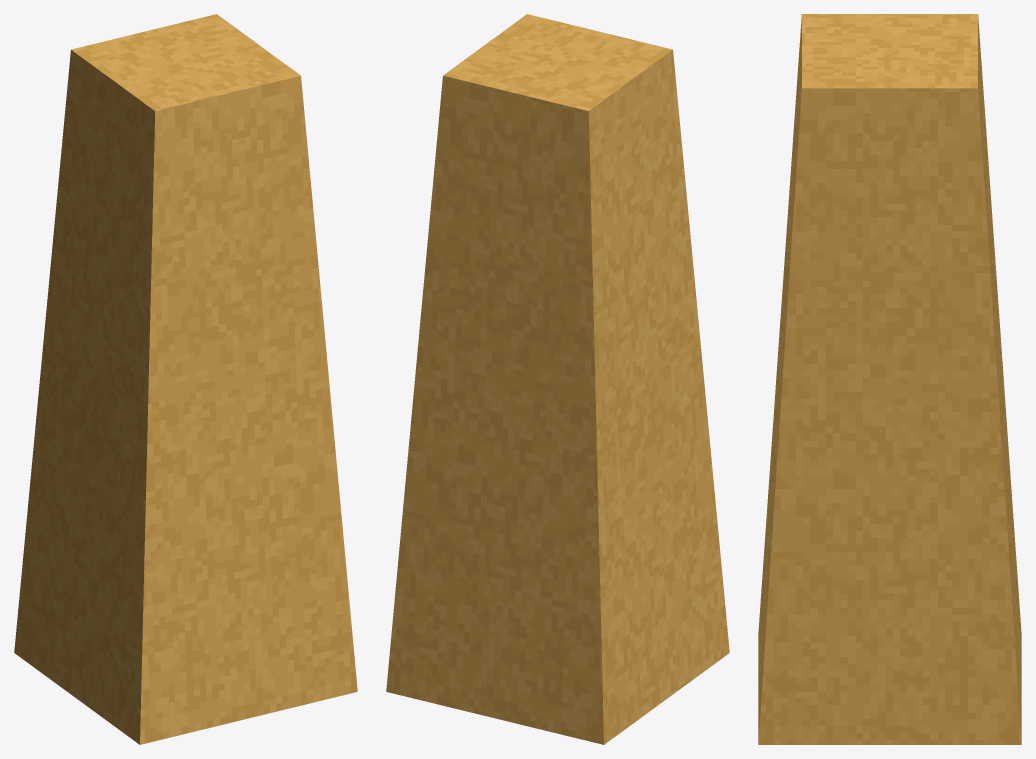
Rendered from pilarmurallagrecia.fbx.
3 renders of one model, left to right at view 1: azimuth 30°, elevation 25°; view 2: azimuth 150°, elevation 25°; view 3: azimuth 270°, elevation 25°, orthographic. The views are drawn at different scales.
Parts seen in each view (by area): view 1: PilarMuralla; view 2: PilarMuralla; view 3: PilarMuralla.
Part boxes in pixels (x1,y1,x2,y2): PilarMuralla: [14, 14, 357, 744]; PilarMuralla: [386, 14, 729, 744]; PilarMuralla: [758, 14, 1021, 744].
Size of the model in its own units: 2.99 by 2.99 by 7.99.
1 material, 1 textured.
